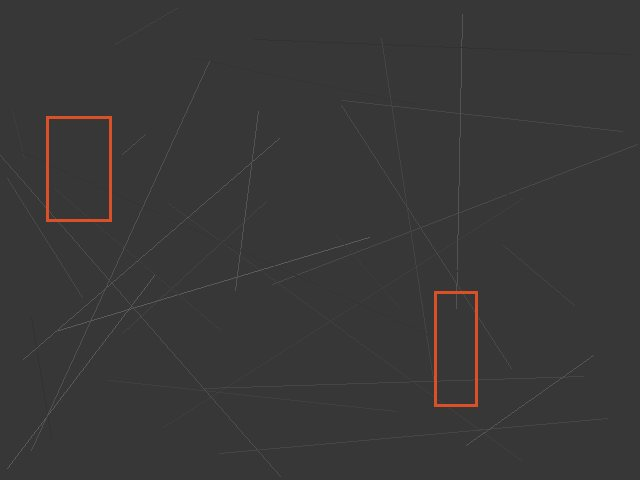D20: (46, 116, 111, 221), (434, 291, 477, 406)
